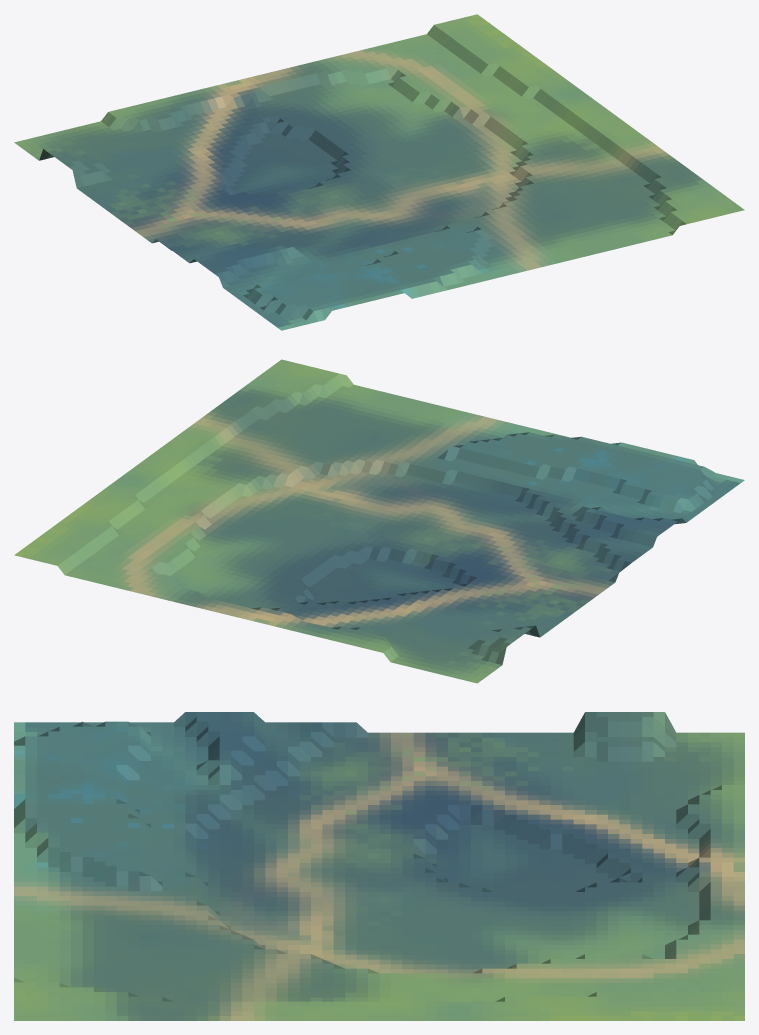
Rendered from test chunk 13.glb.
3 renders of one model, top to bottom at view 1: azimuth 30°, elevation 25°; view 2: azimuth 150°, elevation 25°; view 3: azimuth 270°, elevation 25°, orthographic. The views are drawn at different scales.
Visible parts, largest first — view 1: Chunk 13; view 2: Chunk 13; view 3: Chunk 13.
Part boxes in pixels (x1=…): Chunk 13: x1=14, y1=14, x2=744, y2=330; Chunk 13: x1=14, y1=359, x2=744, y2=683; Chunk 13: x1=14, y1=712, x2=744, y2=1020.
Size of the model in its own units: 64 by 3 by 64.
Materials: 1 (1 with a texture image).
